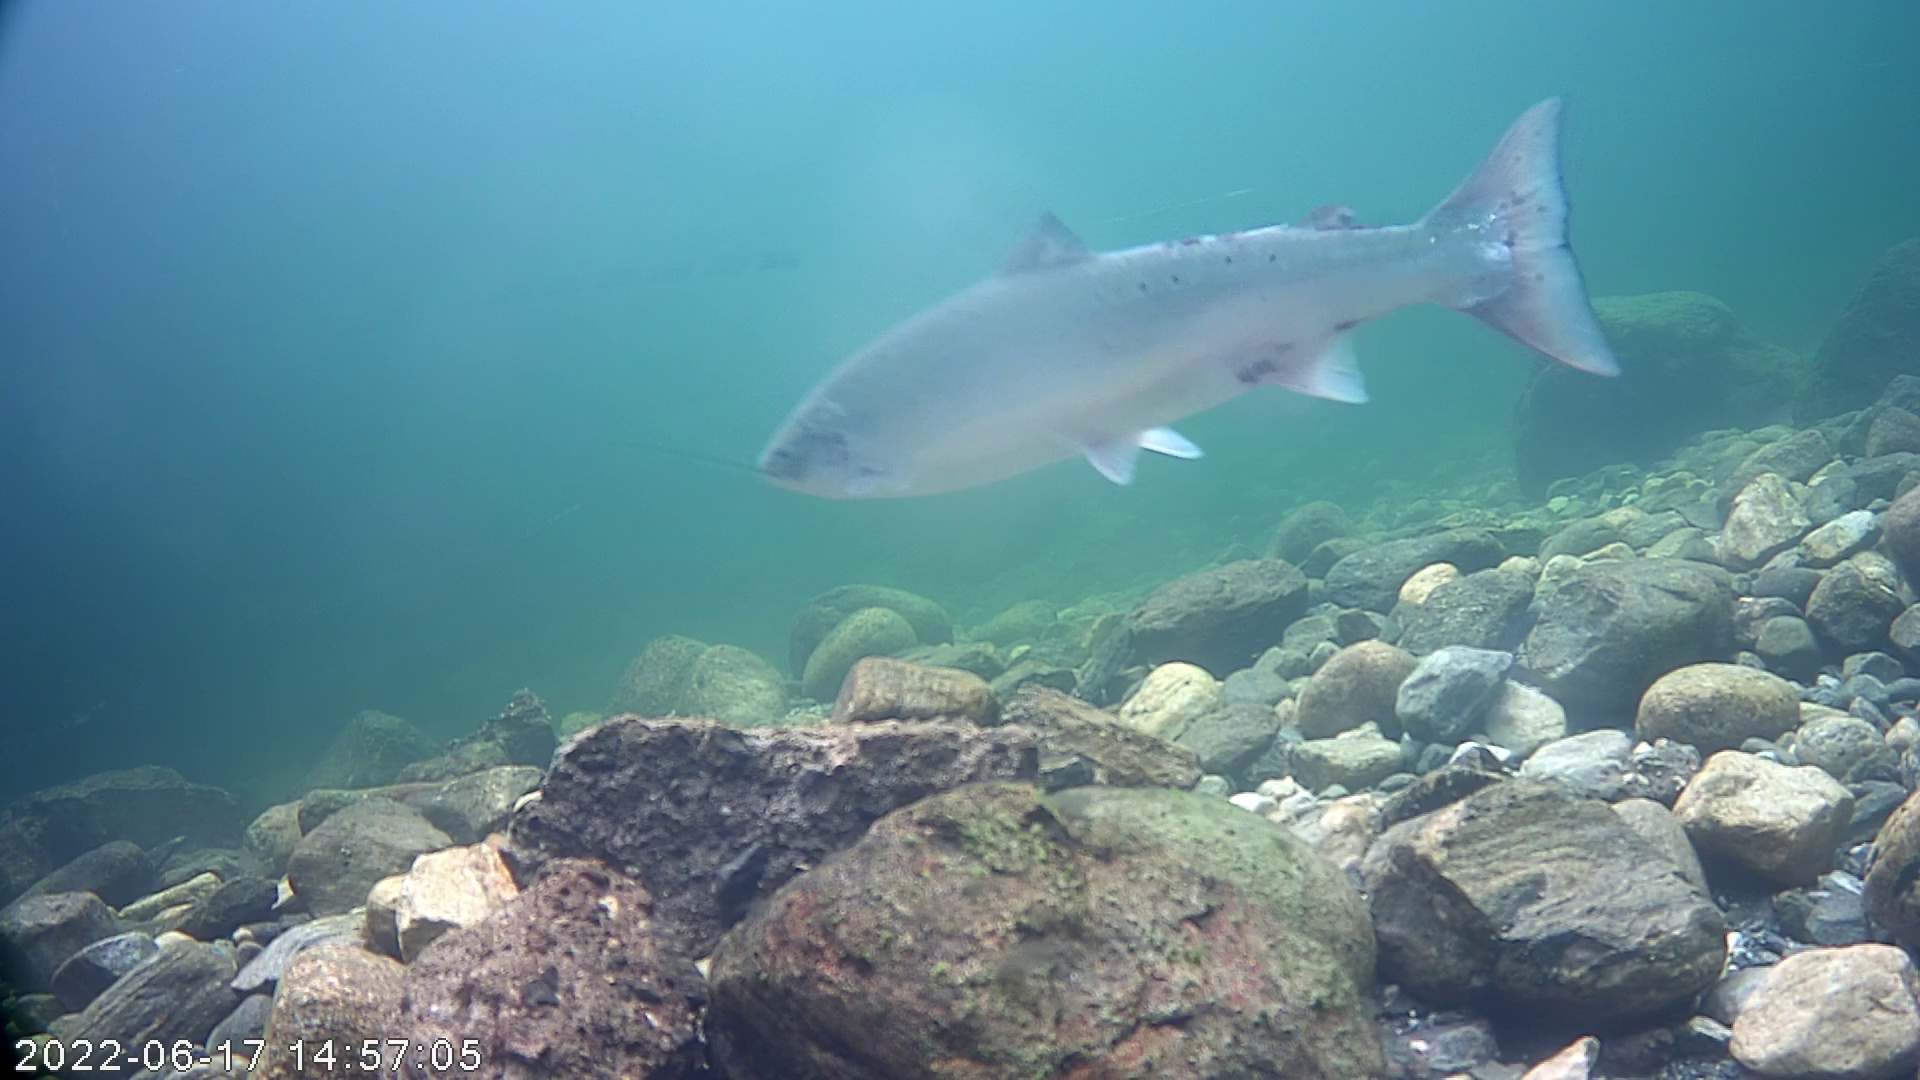salmon: (753, 91, 1622, 504)
